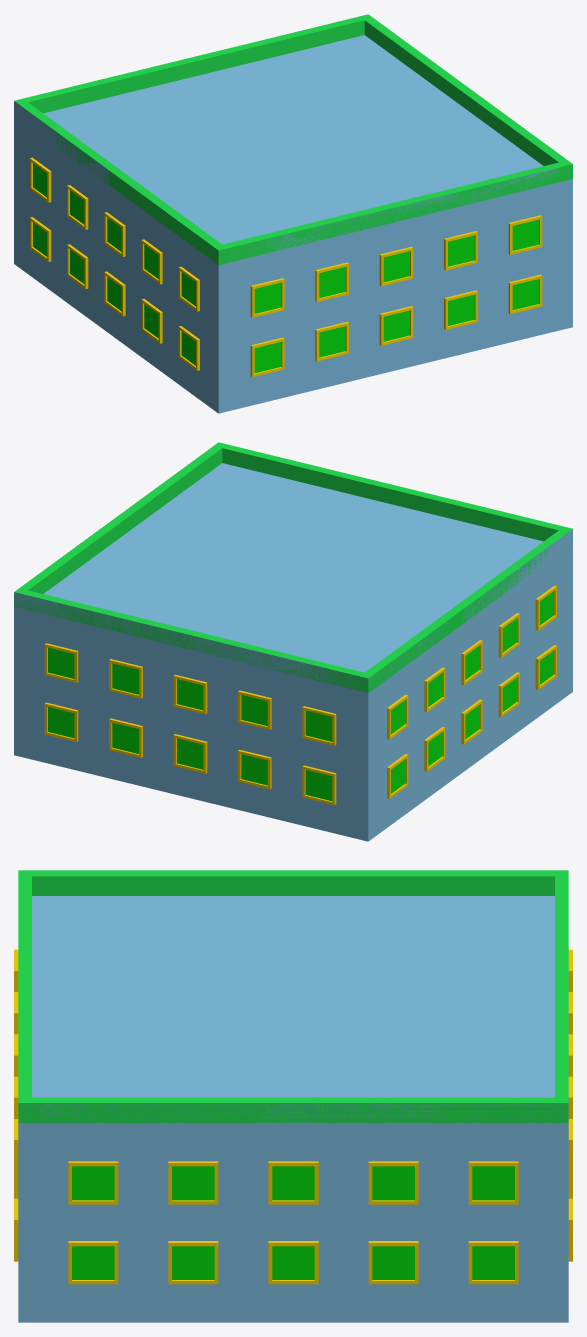
The model's file is Building_25x25_top.fbx.
3 renders of one model, top to bottom at view 1: azimuth 30°, elevation 25°; view 2: azimuth 150°, elevation 25°; view 3: azimuth 270°, elevation 25°, orthographic. The views are drawn at different scales.
Parts seen in each view (by area): view 1: Top_25x25, Top_25x25_cell, Top_25x25_cell.008, Top_25x25_cell.003, Top_25x25_cell.006, Top_25x25_cell.011, Top_25x25_cell.010, Top_25x25_cell.014, Top_25x25_cell.012, Top_25x25_cell.001, Top_25x25_cell.009, Window.085 (+20 smaller); view 2: Top_25x25, Top_25x25_cell.011, Top_25x25_cell.006, Top_25x25_cell.012, Top_25x25_cell.003, Top_25x25_cell.013, Top_25x25_cell.002, Top_25x25_cell.001, Window.105, Window.103, Window.107, Window.112 (+18 smaller); view 3: Top_25x25, Top_25x25_cell.004, Top_25x25_cell.003, Top_25x25_cell.006, Top_25x25_cell.012, Window.095, Window.098, Window.099, Window.100, Window.101, Window.102, Window.093 (+4 smaller).
Part boxes in pixels (x1=…): Top_25x25: x1=14, y1=14, x2=572, y2=413; Top_25x25_cell: x1=168, y1=234, x2=321, y2=412; Top_25x25_cell.008: x1=29, y1=162, x2=112, y2=327; Top_25x25_cell.003: x1=14, y1=86, x2=216, y2=173; Top_25x25_cell.006: x1=217, y1=14, x2=425, y2=123; Top_25x25_cell.011: x1=14, y1=93, x2=119, y2=313; Top_25x25_cell.010: x1=288, y1=294, x2=453, y2=396; Top_25x25_cell.014: x1=457, y1=95, x2=559, y2=290; Top_25x25_cell.012: x1=102, y1=168, x2=238, y2=375; Top_25x25_cell.001: x1=274, y1=190, x2=459, y2=249; Top_25x25_cell.009: x1=506, y1=163, x2=572, y2=339; Window.085: x1=379, y1=306, x2=413, y2=345; Top_25x25: x1=14, y1=442, x2=572, y2=841; Top_25x25_cell.011: x1=181, y1=600, x2=436, y2=841; Top_25x25_cell.006: x1=14, y1=552, x2=241, y2=721; Top_25x25_cell.012: x1=428, y1=525, x2=572, y2=760; Top_25x25_cell.003: x1=279, y1=602, x2=456, y2=724; Top_25x25_cell.013: x1=81, y1=680, x2=234, y2=808; Top_25x25_cell.002: x1=165, y1=621, x2=307, y2=674; Top_25x25_cell.001: x1=328, y1=474, x2=508, y2=604; Window.105: x1=173, y1=734, x2=207, y2=773; Window.103: x1=44, y1=702, x2=78, y2=742; Window.107: x1=302, y1=765, x2=336, y2=805; Window.112: x1=302, y1=706, x2=336, y2=745; Top_25x25: x1=18, y1=870, x2=568, y2=1322; Top_25x25_cell.004: x1=106, y1=1097, x2=478, y2=1322; Top_25x25_cell.003: x1=315, y1=870, x2=568, y2=995; Top_25x25_cell.006: x1=331, y1=1004, x2=568, y2=1265; Top_25x25_cell.012: x1=20, y1=870, x2=320, y2=920; Window.095: x1=268, y1=1241, x2=318, y2=1284; Window.098: x1=68, y1=1161, x2=118, y2=1204; Window.099: x1=168, y1=1161, x2=218, y2=1204; Window.100: x1=268, y1=1161, x2=318, y2=1204; Window.101: x1=368, y1=1161, x2=418, y2=1204; Window.102: x1=468, y1=1161, x2=518, y2=1204; Window.093: x1=68, y1=1241, x2=118, y2=1284.
Size of the model in its own units: 25.38 by 11 by 25.38.
